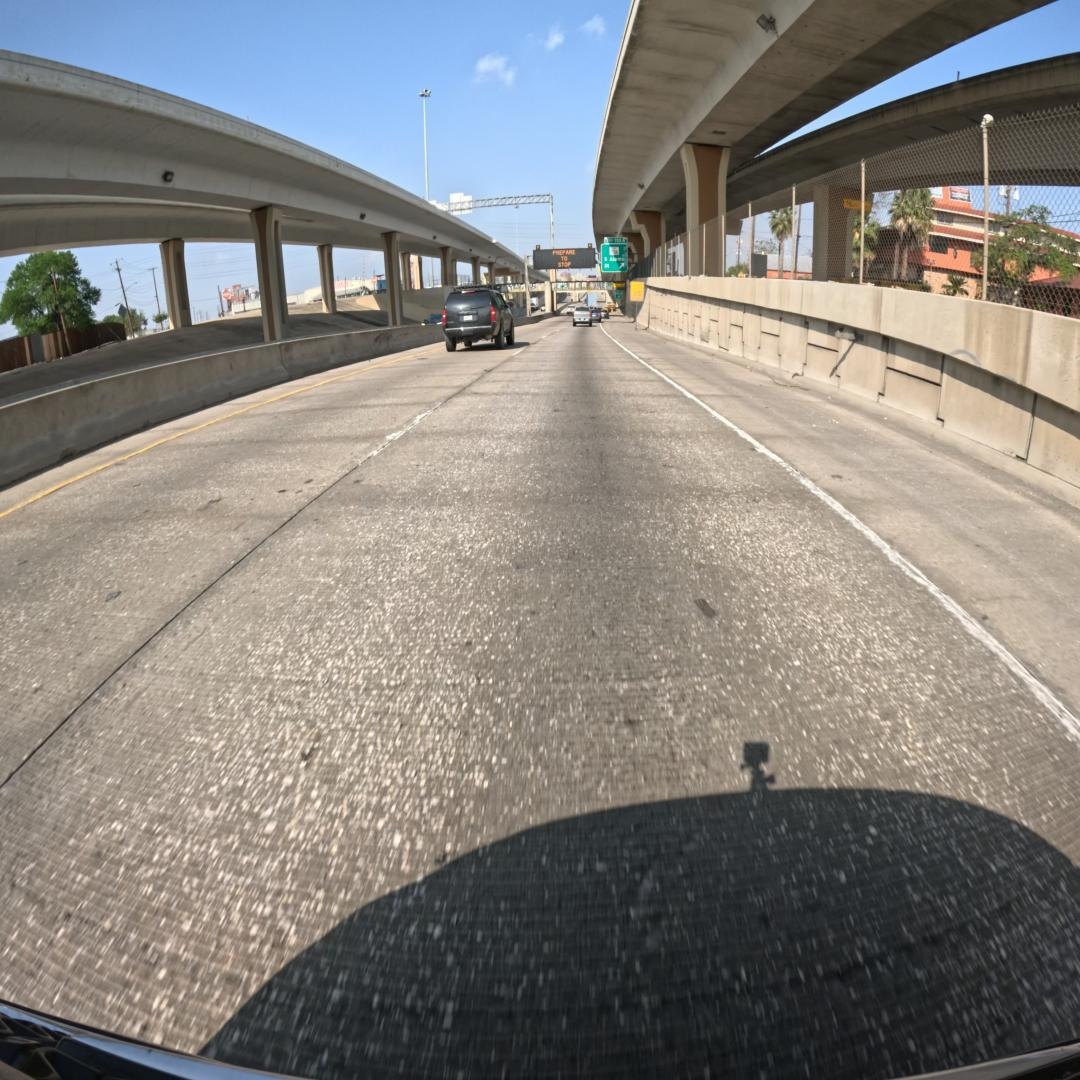lane0: (0, 326, 1080, 1080)
lane1: (0, 347, 521, 786)
